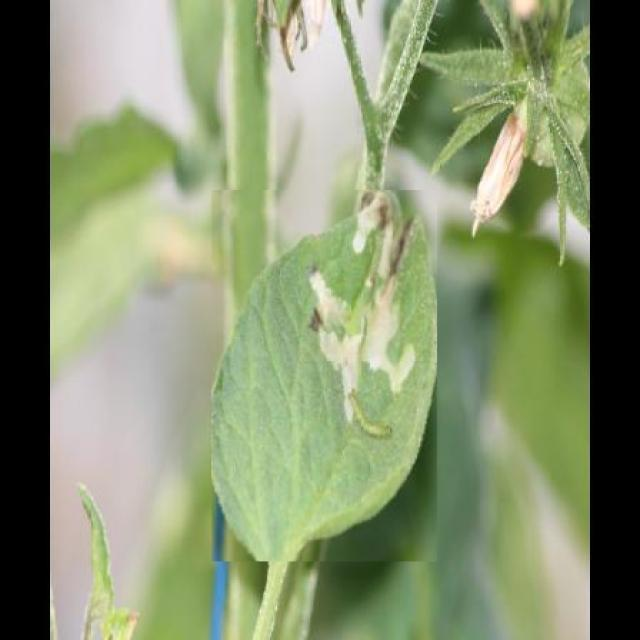Leaf Miner: (211, 190, 438, 561)
